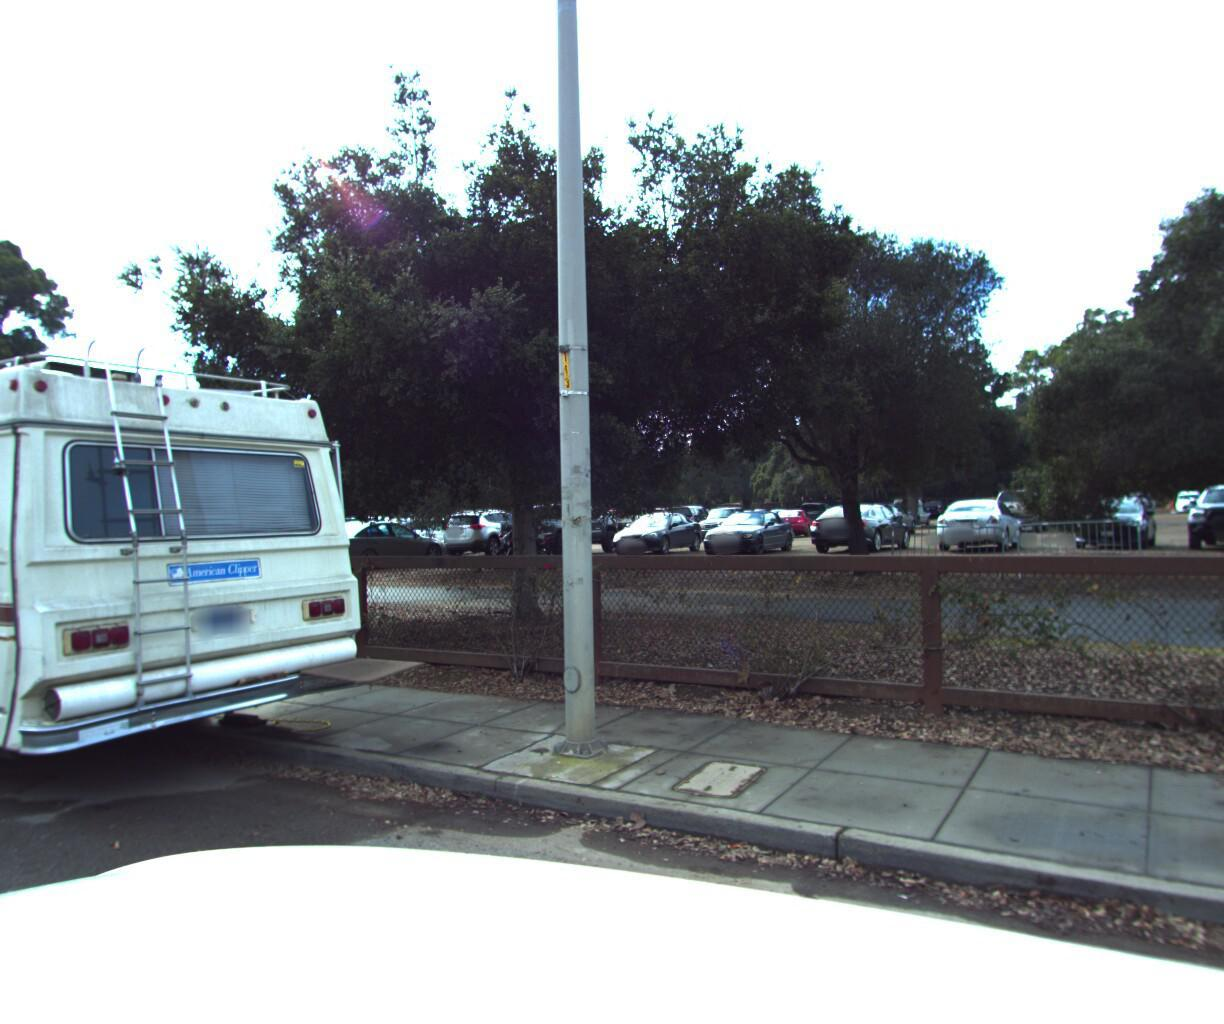other_vehicle: (0, 290, 400, 863)
